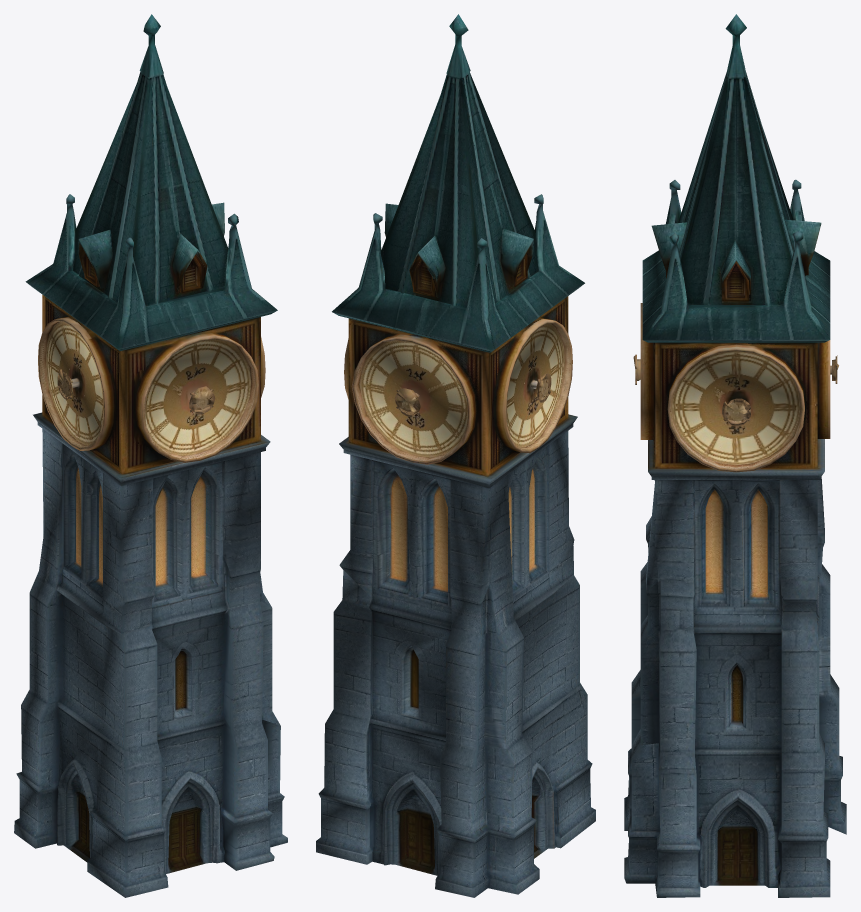
File: tripo_convert_b4d07b49-28dd-43ab-acc0-00abfa5751b7.fbx
3 views of the same model, side by side, from view 1: azimuth 30°, elevation 25°; view 2: azimuth 150°, elevation 25°; view 3: azimuth 270°, elevation 25° (orthographic).
Visible parts, largest first — view 1: tripo_node_b4d07b49; view 2: tripo_node_b4d07b49; view 3: tripo_node_b4d07b49.
Part boxes in pixels (x1,y1,x2,y2): tripo_node_b4d07b49: [14, 14, 287, 897]; tripo_node_b4d07b49: [316, 14, 595, 897]; tripo_node_b4d07b49: [624, 14, 846, 897].
Bounding box in the file's own units: 0.248 × 0.998 × 0.2402.
1 material, 1 textured.
